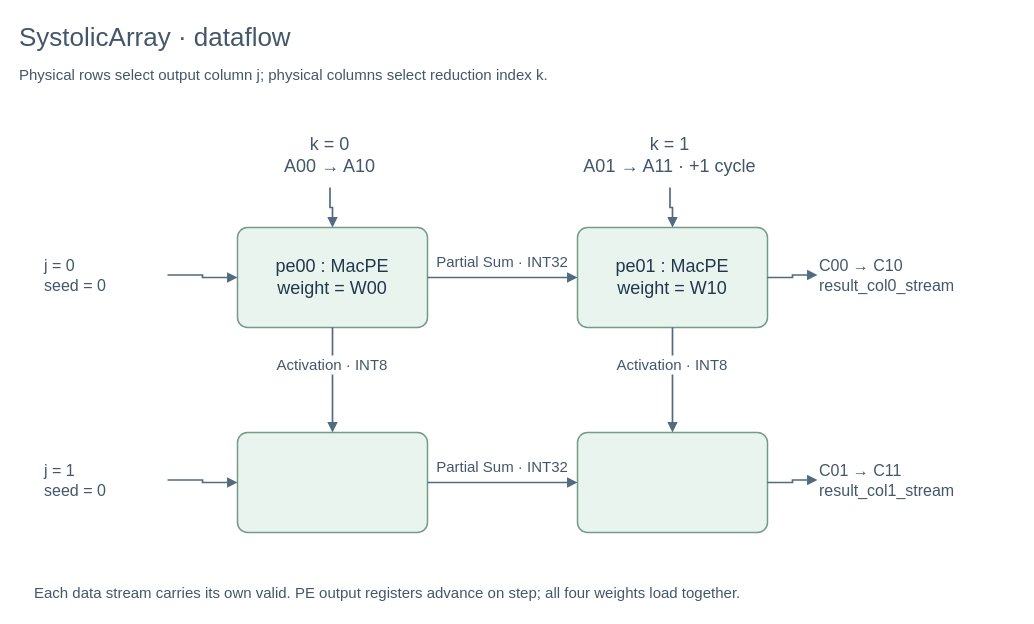
The diagram is 1034 pixels wide and 624 high, and some of its shapes have lost their labels. The centre of each missing label's shape, as x and y in pixels:
"pe10 : MacPE weight = W01" goes at pixel 332 482.
"pe11 : MacPE weight = W11" goes at pixel 672 482.
